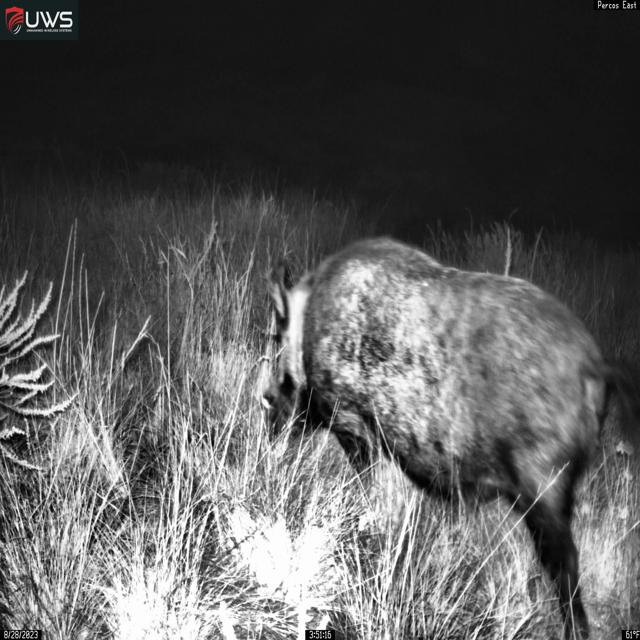pig: (258, 235, 640, 640)
